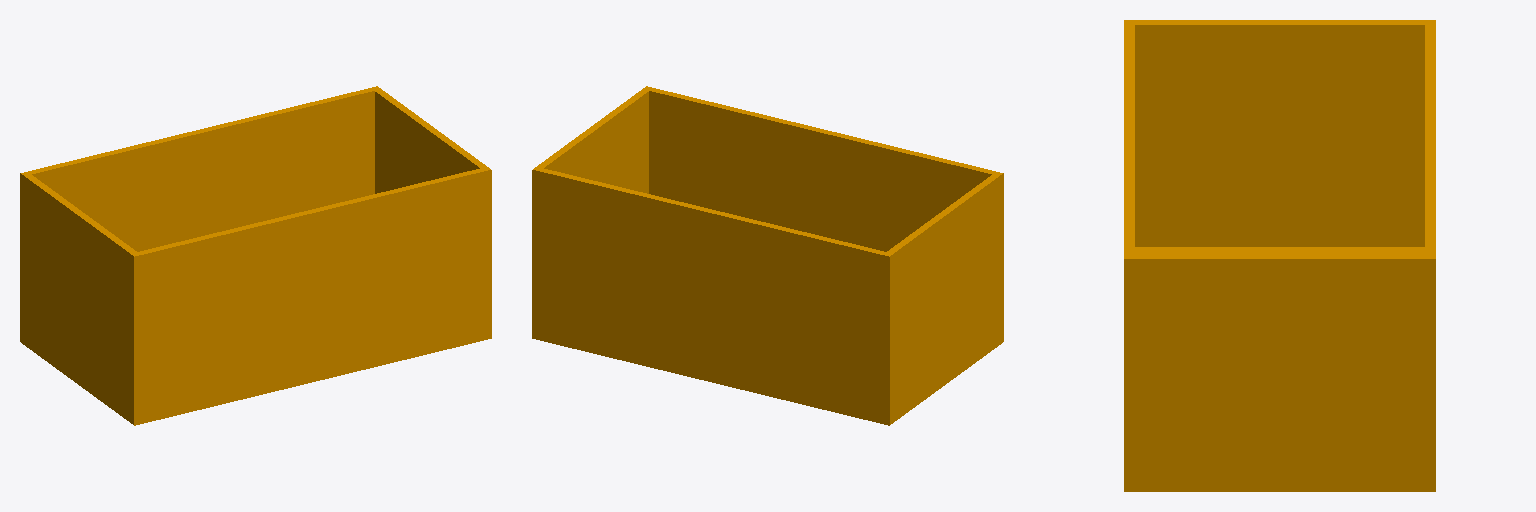
The robot description file, URDF, robot "tray":
<robot name="tray">
  <link name="tray_base_link">
    <contact>
      <lateral_friction value="0.5"/>
      <rolling_friction value="0.0"/>
      <contact_cfm value="0.0"/>
      <contact_erp value="1.0"/>
    </contact>
    <inertial>
      <origin rpy="0 0 0" xyz="0 0 0"/>
      <mass value="1"/>
      <inertia ixx="0.1" ixy="0" ixz="0" iyy="0.1" iyz="0" izz="0.1"/>
    </inertial>
    <visual>
      <origin rpy="0 0 0" xyz="0 0 0"/>
      <geometry>
        <mesh filename="meshes/realbin.obj" scale="1 1 1"/>
      </geometry>
    </visual>
    <collision>
      <origin rpy="0 0 0" xyz="0 0 0"/>
      <geometry>
        <mesh filename="meshes/realbin.obj" scale="1 1 1"/>
      </geometry>
    </collision>
  </link>
</robot>

--- What the picture shows (computed from the rendered views, not written in the file) ---
The picture shows the robot from 3 angles, left to right: view 1: azimuth 30°, elevation 25°; view 2: azimuth 150°, elevation 25°; view 3: azimuth 270°, elevation 25°; orthographic projection.
Model tray with 1 links and 0 joints (none), rooted at tray_base_link, posed all joints at 0.
Links seen in each view (by area): view 1: tray_base_link; view 2: tray_base_link; view 3: tray_base_link.
Boxes of the visible links, x1=… form: tray_base_link: x1=20, y1=86, x2=491, y2=425; tray_base_link: x1=532, y1=86, x2=1003, y2=425; tray_base_link: x1=1124, y1=20, x2=1435, y2=491.
Size in the robot's own frame: 1.02 by 0.562 by 0.46 metres.
Meshes: 1 distinct files referenced, 1 mesh visuals loaded (1 OBJ).